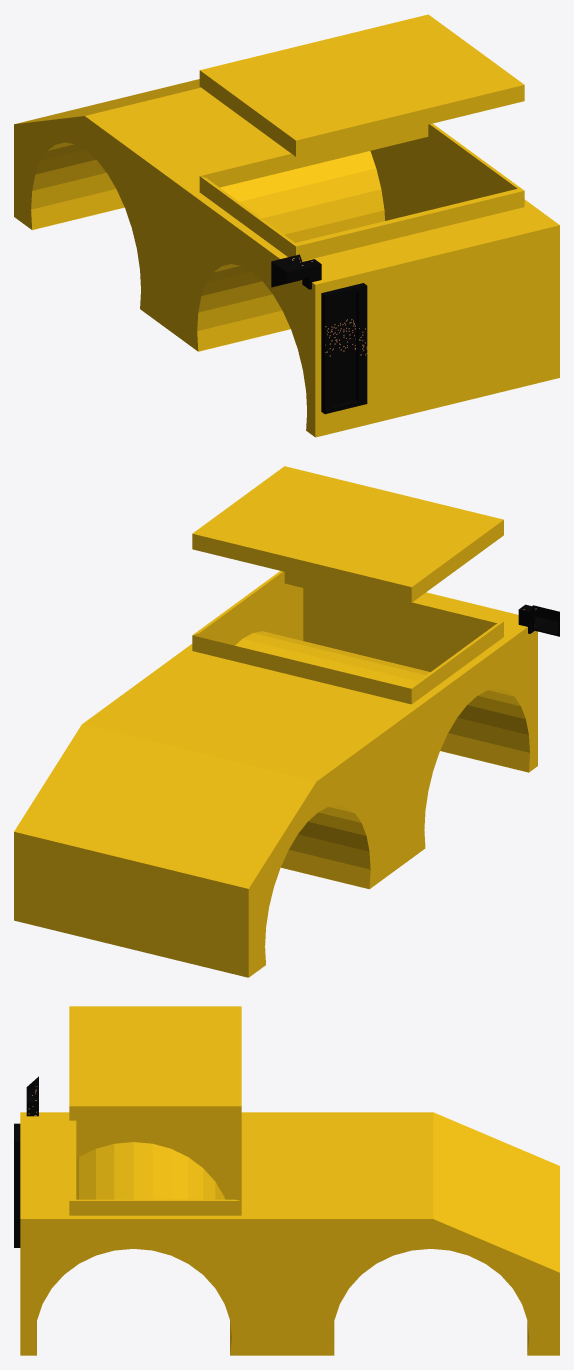
The model's file is caterpilar.obj.
The picture shows the model from 3 angles, top to bottom: view 1: azimuth 30°, elevation 25°; view 2: azimuth 150°, elevation 25°; view 3: azimuth 270°, elevation 25°; orthographic projection. The views are drawn at different scales.
Visible parts, largest first — view 1: Catepillar_Cube.001; view 2: Catepillar_Cube.001; view 3: Catepillar_Cube.001.
Boxes of the visible parts, box(x1,y1,x2,y2) form: Catepillar_Cube.001: box(14, 14, 559, 437); Catepillar_Cube.001: box(14, 466, 559, 977); Catepillar_Cube.001: box(14, 1006, 559, 1355).
Bounding box in the file's own units: 50.52 × 47.73 × 95.98.
Materials: 2 (2 with a texture image).
